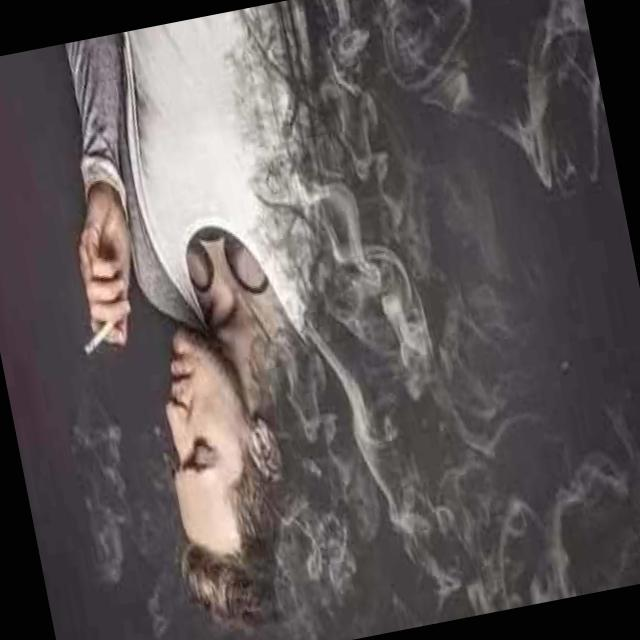cigarette: (46, 273, 166, 400)
